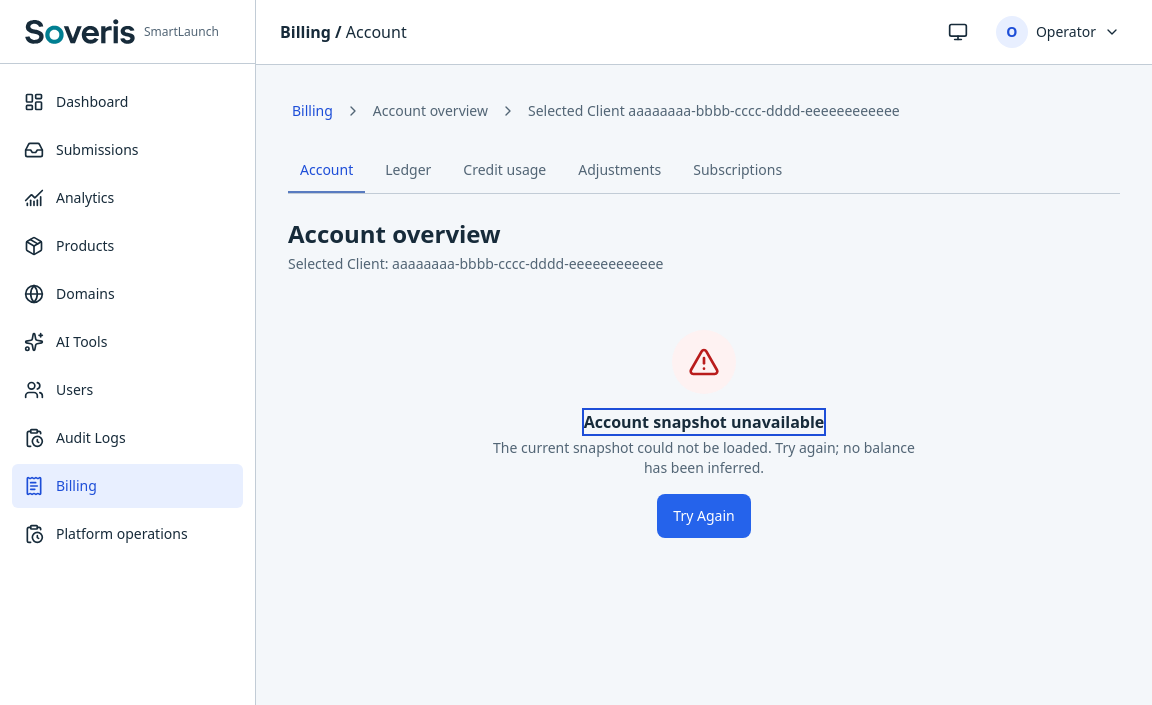
Billing interactions and private transitions › retries a transient failure once and exposes a safe manual recovery
Expected: the heading "Account snapshot unavailable" is shown, [584,410,824,434]
Click the button "Try Again": (704,516) [657,494,751,538]
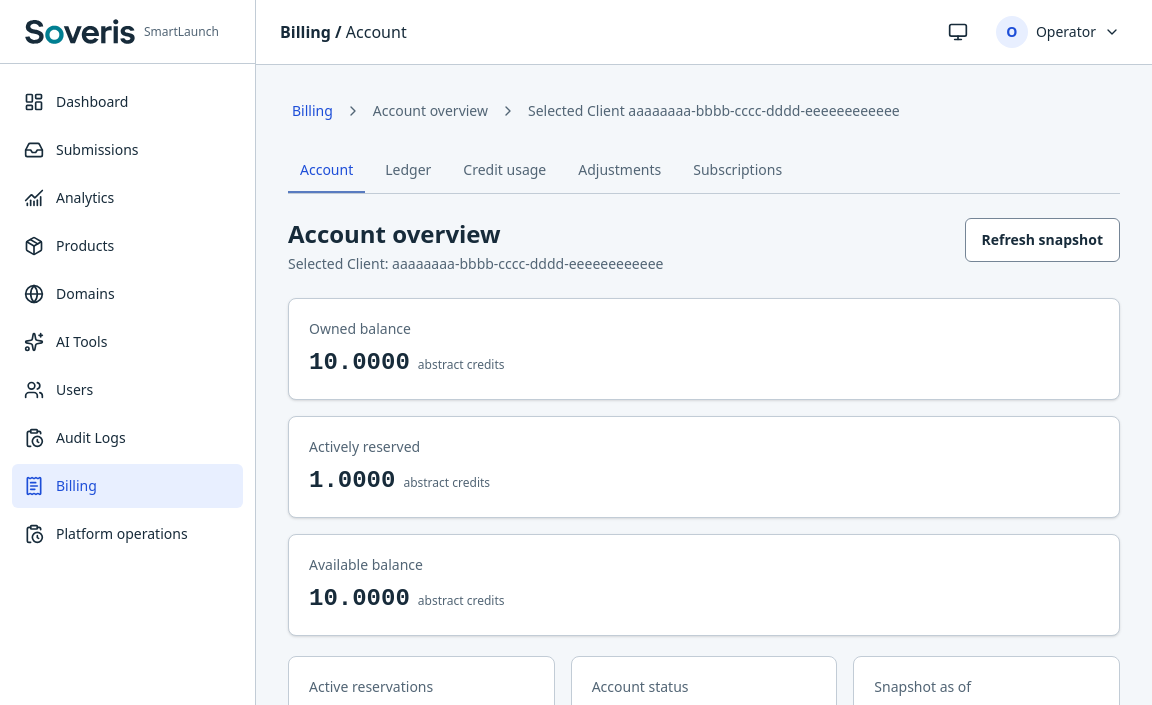
Now the text "10.0000" below "Owned balance" is shown, box [309,349,410,376]
